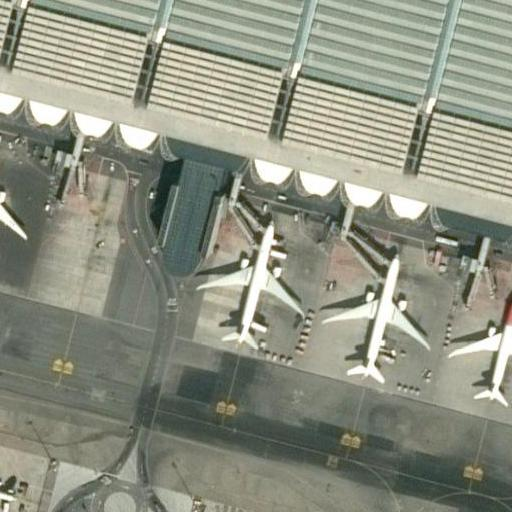Aircraft: (196, 217, 307, 356), (323, 251, 423, 388), (445, 281, 512, 414), (0, 142, 31, 271), (0, 453, 19, 512), (203, 508, 292, 512)
